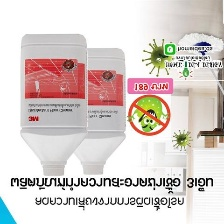cleaning_solution: (18, 31, 89, 178), (62, 43, 128, 177)
